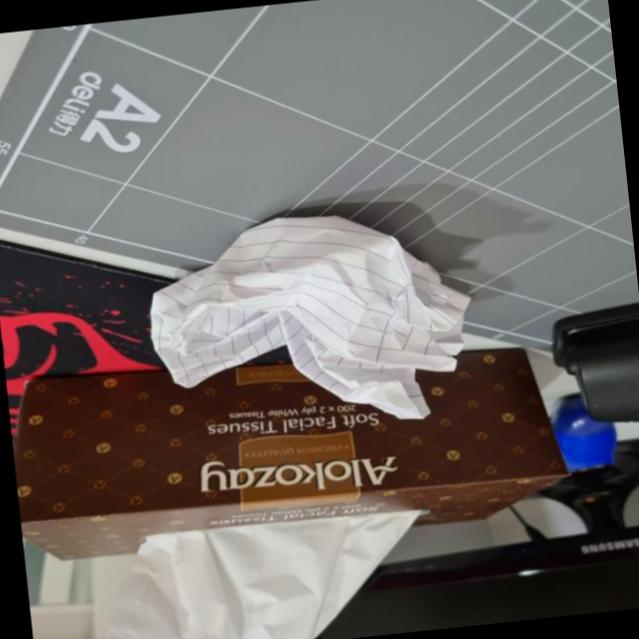cardboard paper: (149, 214, 468, 417), (101, 509, 418, 639)
